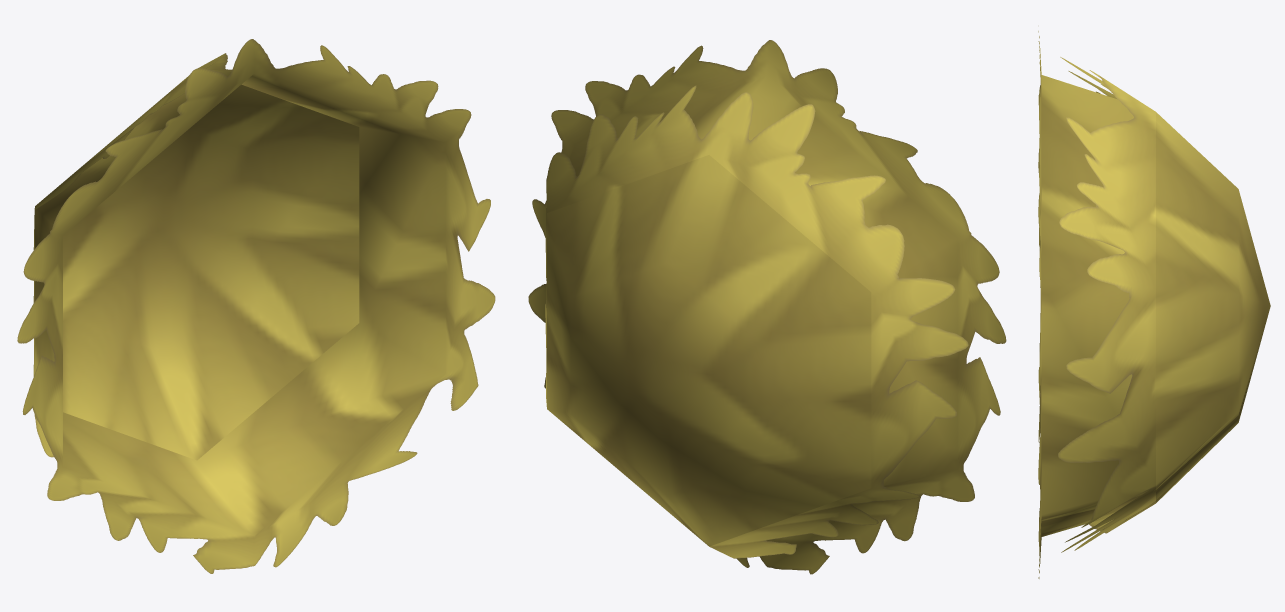
The model's file is Prop_c.fbx.
3 views of the same model, side by side, from view 1: azimuth 30°, elevation 25°; view 2: azimuth 150°, elevation 25°; view 3: azimuth 270°, elevation 25° (orthographic).
Visible parts, largest first — view 1: Prop_c; view 2: Prop_c; view 3: Prop_c.
Part boxes in pixels (box(x1,y1,x2,y2)): Prop_c: box(17, 39, 495, 573); Prop_c: box(528, 40, 1006, 574); Prop_c: box(1038, 31, 1270, 578).
Size of the model in its own units: 219 by 252 by 91.09.
